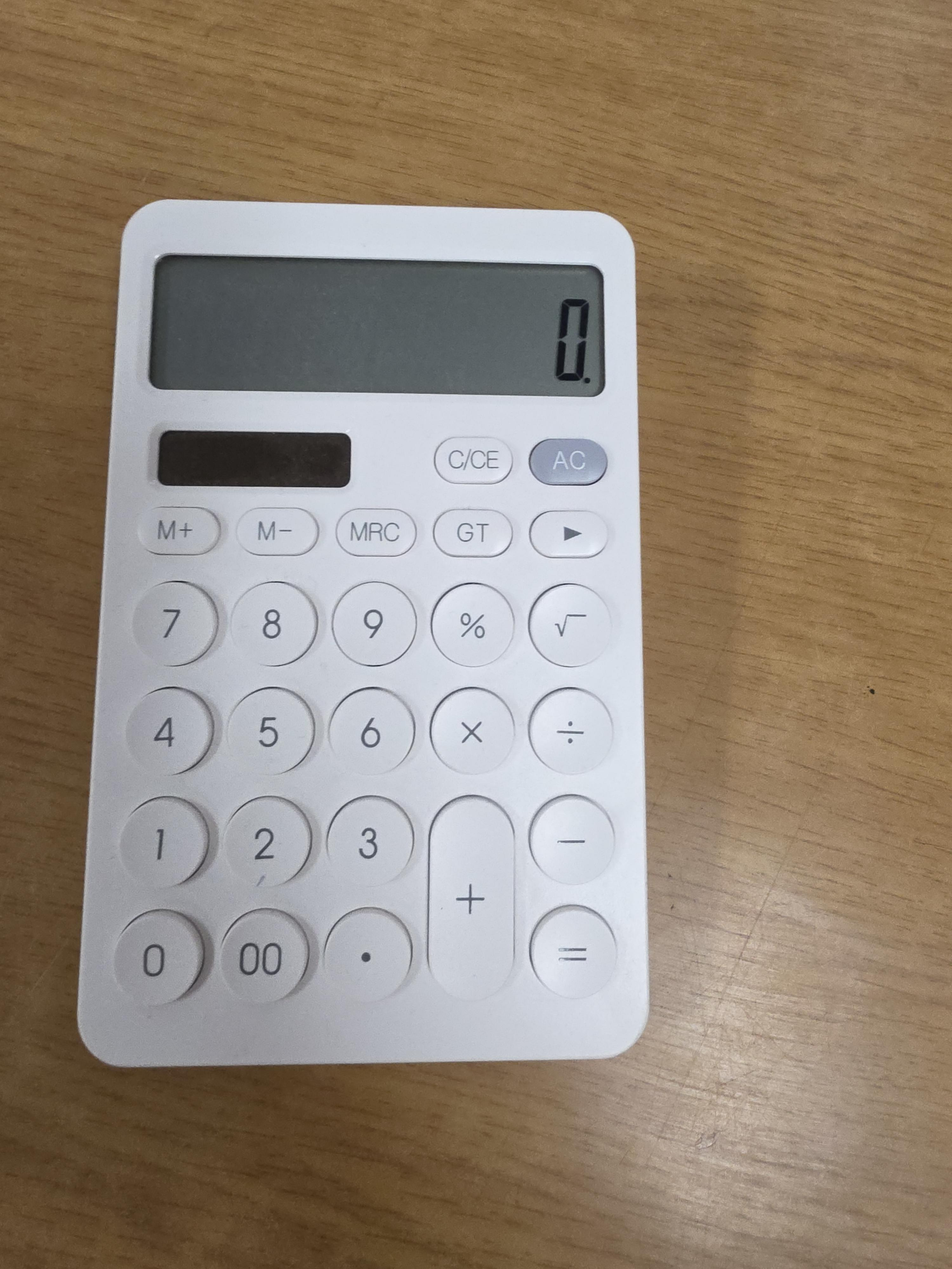calculator: (77, 200, 650, 1066)
